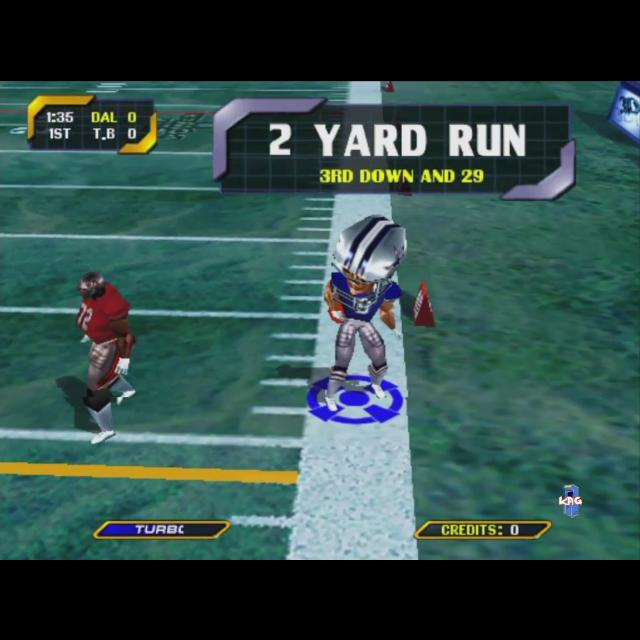player: (323, 213, 407, 411), (76, 271, 136, 444)
